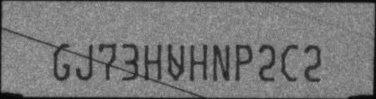2: (258, 43, 276, 83), (304, 44, 322, 83)
3: (122, 43, 139, 81)
7: (99, 43, 117, 80)
C: (281, 44, 299, 82)
G: (52, 43, 72, 81)
H: (143, 42, 162, 81), (189, 42, 208, 81)
J: (75, 44, 93, 81)
N: (212, 42, 231, 82)
P: (234, 42, 253, 82)
V: (167, 42, 185, 83)
